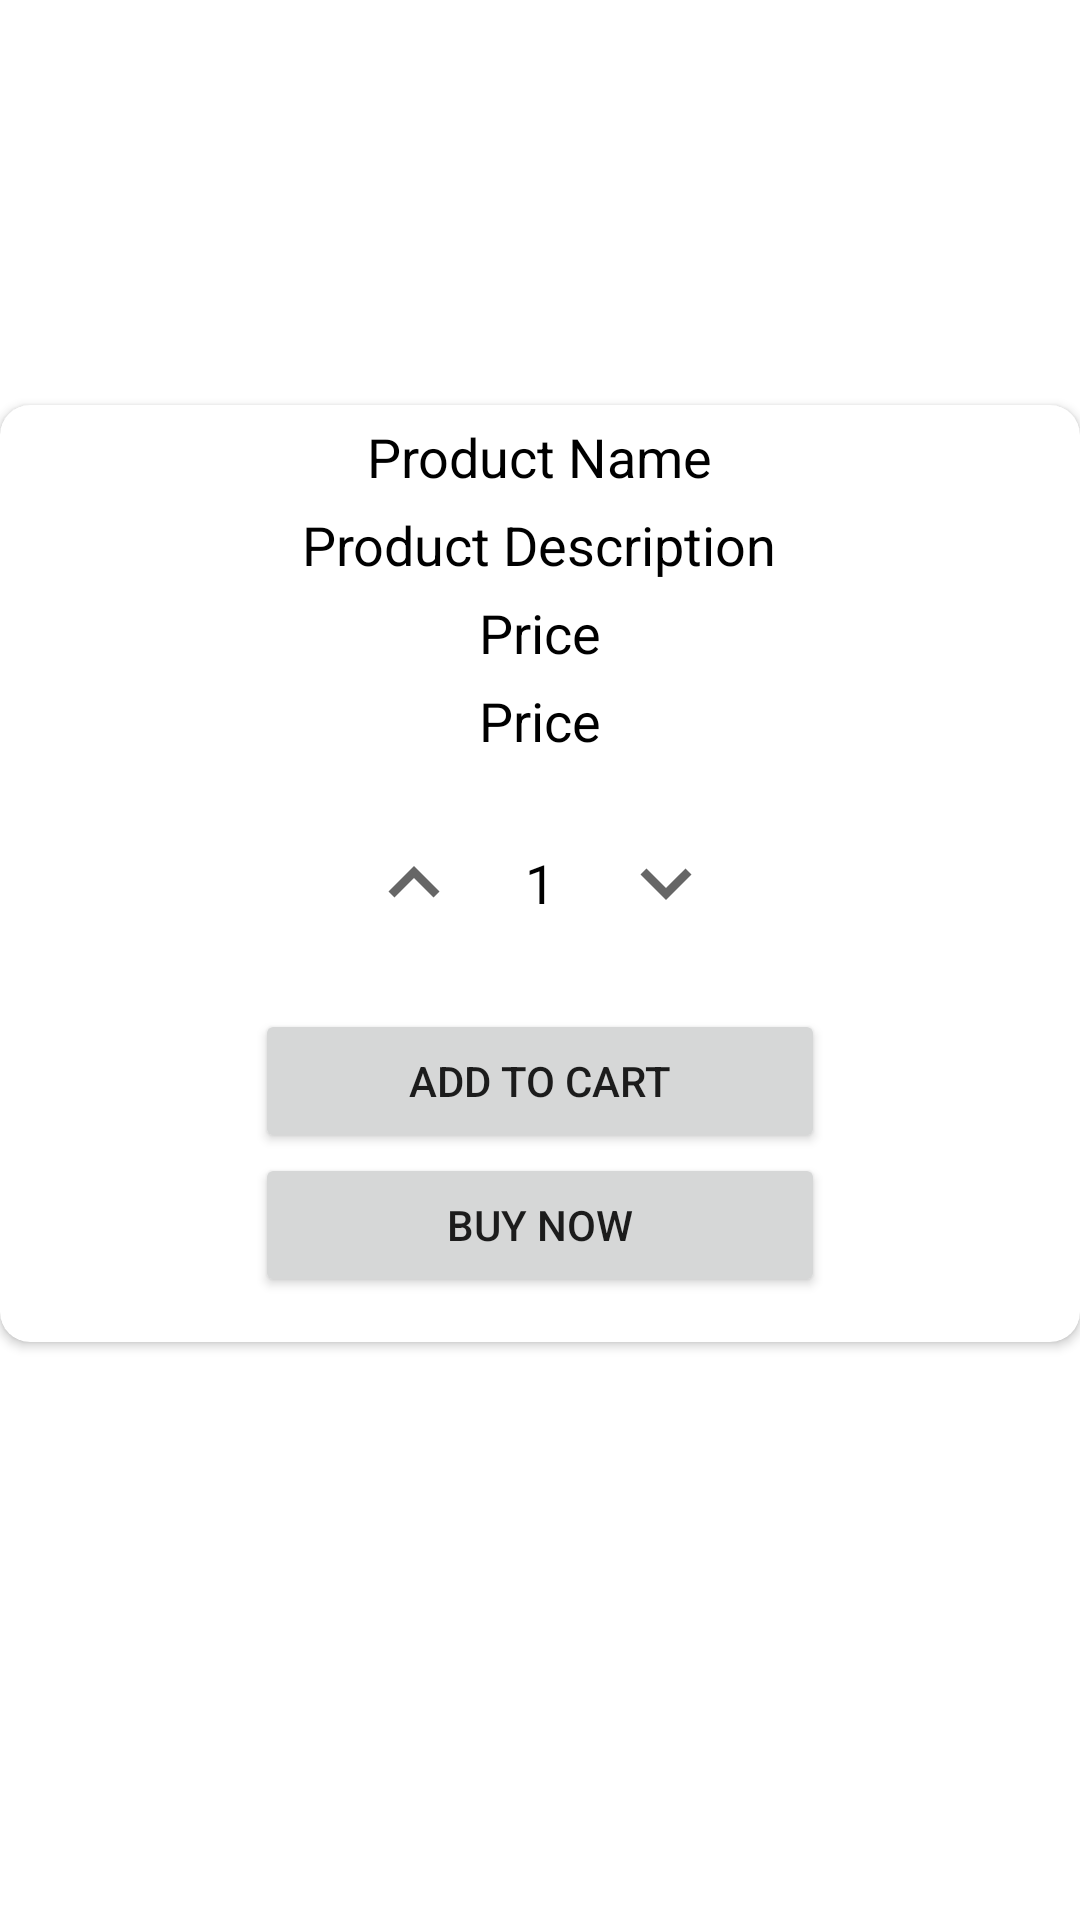

Where icons sit on this 1080w x 1920h app screen, as (x1, y1, x2, y2):
keyboard arrow down: (640, 868, 692, 900)
keyboard arrow up: (388, 866, 440, 898)
